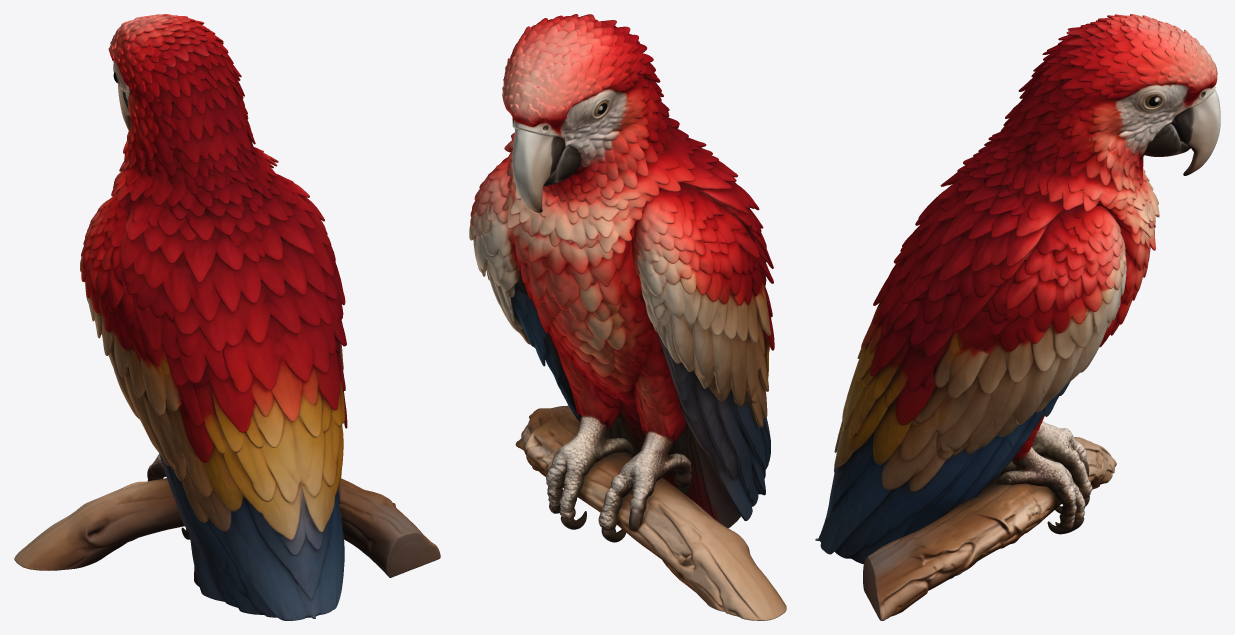
The model's file is New Project 10_6_2026.glb.
The picture shows the model from 3 angles, left to right: view 1: azimuth 30°, elevation 25°; view 2: azimuth 150°, elevation 25°; view 3: azimuth 270°, elevation 25°; orthographic projection. The views are drawn at different scales.
Parts seen in each view (by area): view 1: tripo_node_0f6b82fd-f748-4f13-bb7f-36088dceaba0; view 2: tripo_node_0f6b82fd-f748-4f13-bb7f-36088dceaba0; view 3: tripo_node_0f6b82fd-f748-4f13-bb7f-36088dceaba0.
Part boxes in pixels (box(x1,y1,x2,y2)): tripo_node_0f6b82fd-f748-4f13-bb7f-36088dceaba0: box(14, 14, 440, 620); tripo_node_0f6b82fd-f748-4f13-bb7f-36088dceaba0: box(469, 14, 786, 620); tripo_node_0f6b82fd-f748-4f13-bb7f-36088dceaba0: box(815, 14, 1220, 620).
Bounding box in the file's own units: 0.6898 × 1 × 0.7058.
1 material, 1 textured.
